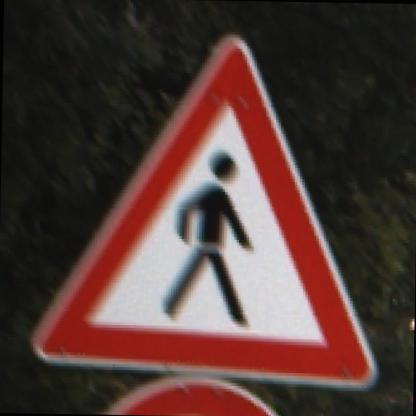crosswalk: (16, 8, 395, 415)
